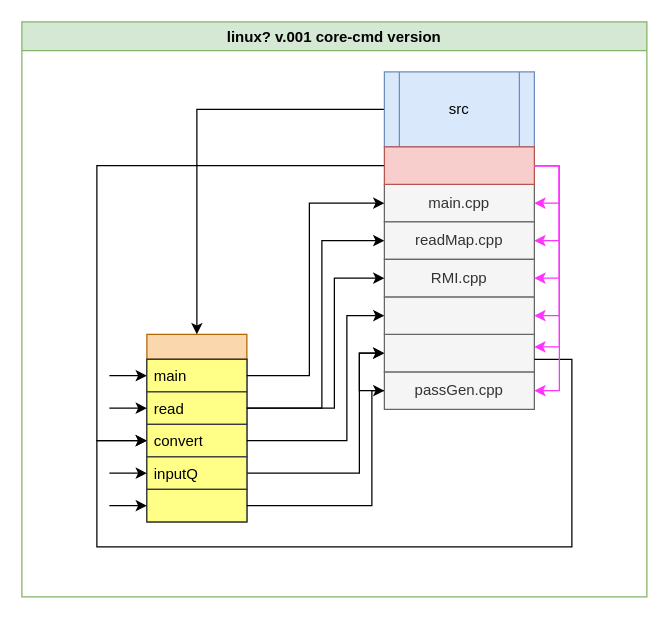
The diagram is 669 pixels wide and 619 high, and some of its shapes have lost their labels. Each missing label, with the box of its shape:
hammer.cpp: (383, 296, 534, 334)
includeQ.h: (383, 146, 534, 184)
namespace: (146, 333, 247, 359)
output: (146, 488, 247, 522)
passMap.cpp: (383, 333, 534, 372)
